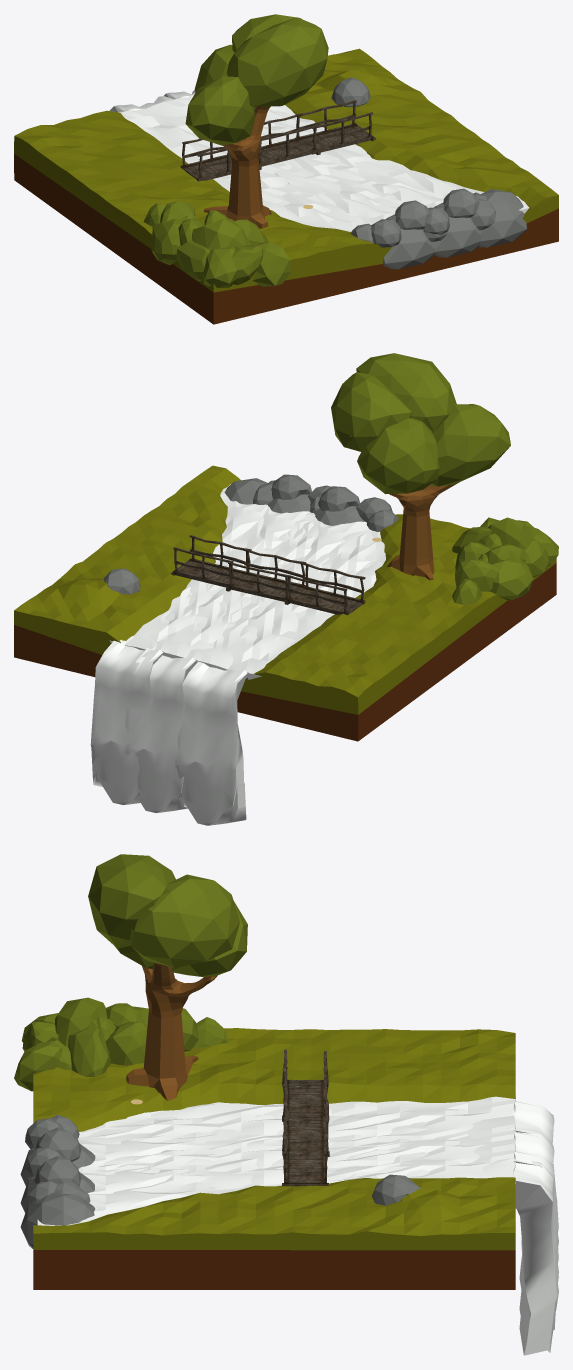
Rendered from scene-kecil-page7.glb.
3 views of the same model, one above another, from view 1: azimuth 30°, elevation 25°; view 2: azimuth 150°, elevation 25°; view 3: azimuth 270°, elevation 25° (orthographic). The views are drawn at different scales.
Visible parts, largest first — view 1: Cube.002_0.001, Cube.001_0.002, Cube.002_Material_0.002, Cube.002_Material_0.001, Cube.002; view 2: Cube.002_0.001, Cube.001_0.002, Cube.002, Cube.002_Material_0.001, Cube.002_Material_0.002; view 3: Cube.002_0.001, Cube.001_0.002, Cube.002_Material_0.002, Cube.002_Material_0.001, Cube.002.
Boxes of the visible parts, x1,y1,x2,y2 form: Cube.002_0.001: (14, 14, 558, 324); Cube.001_0.002: (109, 90, 529, 231); Cube.002_Material_0.002: (295, 100, 375, 154); Cube.002_Material_0.001: (258, 115, 320, 166); Cube.002: (180, 138, 261, 181); Cube.002_0.001: (14, 353, 558, 741); Cube.001_0.002: (90, 484, 385, 825); Cube.002: (284, 563, 365, 614); Cube.002_Material_0.001: (226, 548, 306, 601); Cube.002_Material_0.002: (170, 535, 251, 587); Cube.002_0.001: (14, 854, 515, 1289); Cube.001_0.002: (37, 1094, 558, 1355); Cube.002_Material_0.002: (282, 1117, 328, 1186); Cube.002_Material_0.001: (282, 1084, 329, 1156); Cube.002: (282, 1049, 328, 1121).
Size of the model in its own units: 16.28 by 15.08 by 17.64.
3 materials, 3 textured.
